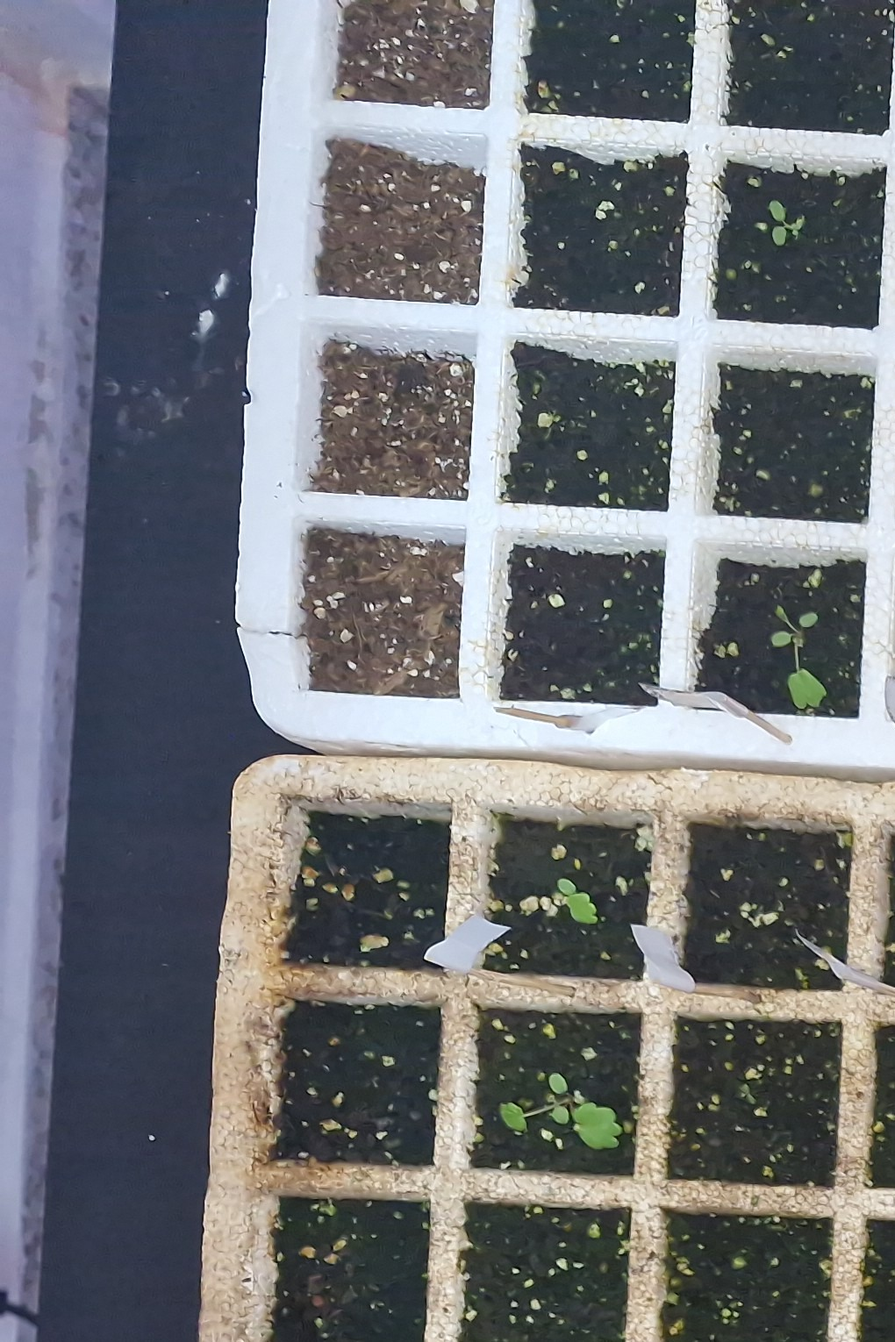Folha: (574, 1102, 624, 1150), (565, 894, 597, 923), (501, 1103, 526, 1130), (549, 1074, 566, 1093), (552, 1106, 568, 1123), (559, 880, 575, 895)
Germinacao: (500, 1073, 622, 1149), (559, 879, 597, 924)
